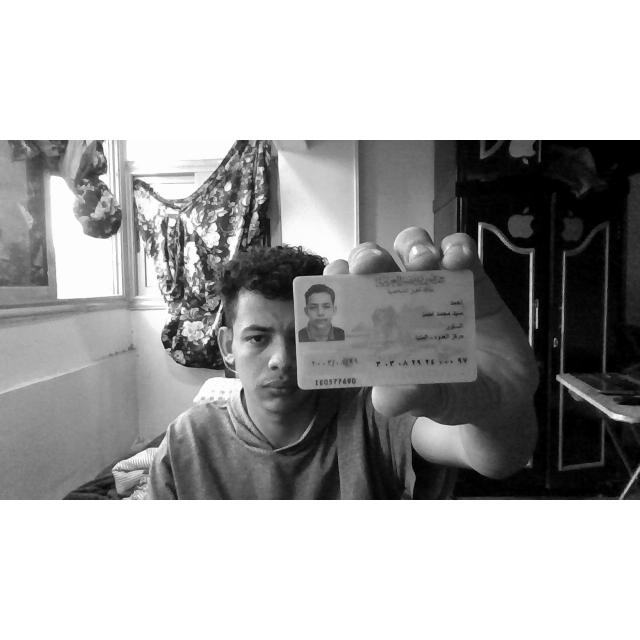id_card: (293, 270, 477, 389)
